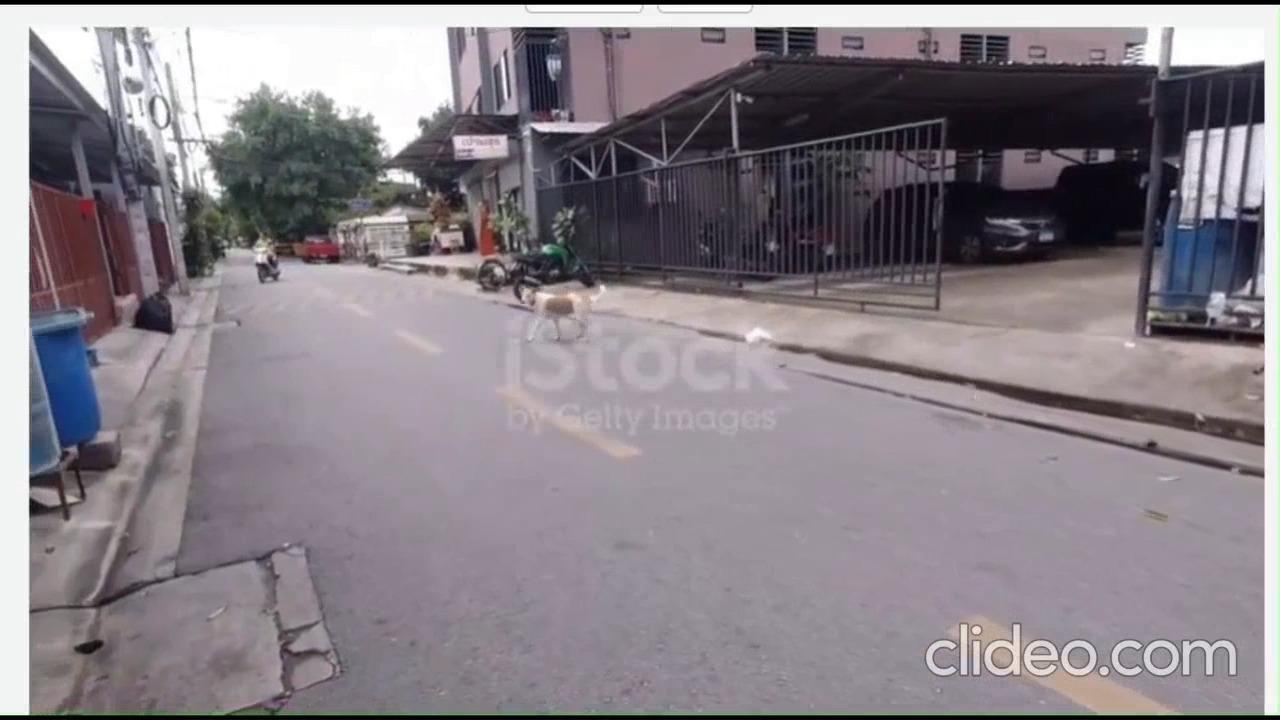dog: (520, 281, 608, 353)
